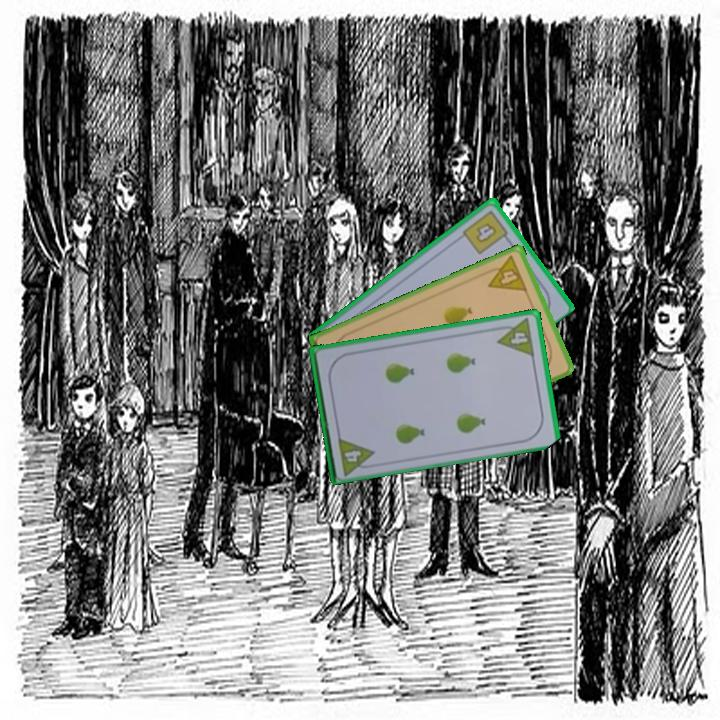4b: (459, 206, 513, 257)
4p: (480, 252, 530, 294), (492, 315, 537, 359), (334, 433, 378, 477)
